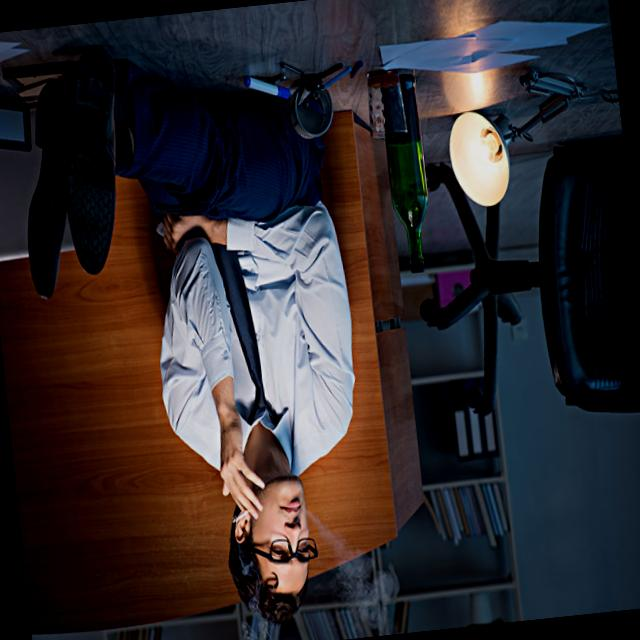cigarette: (228, 508, 250, 526)
